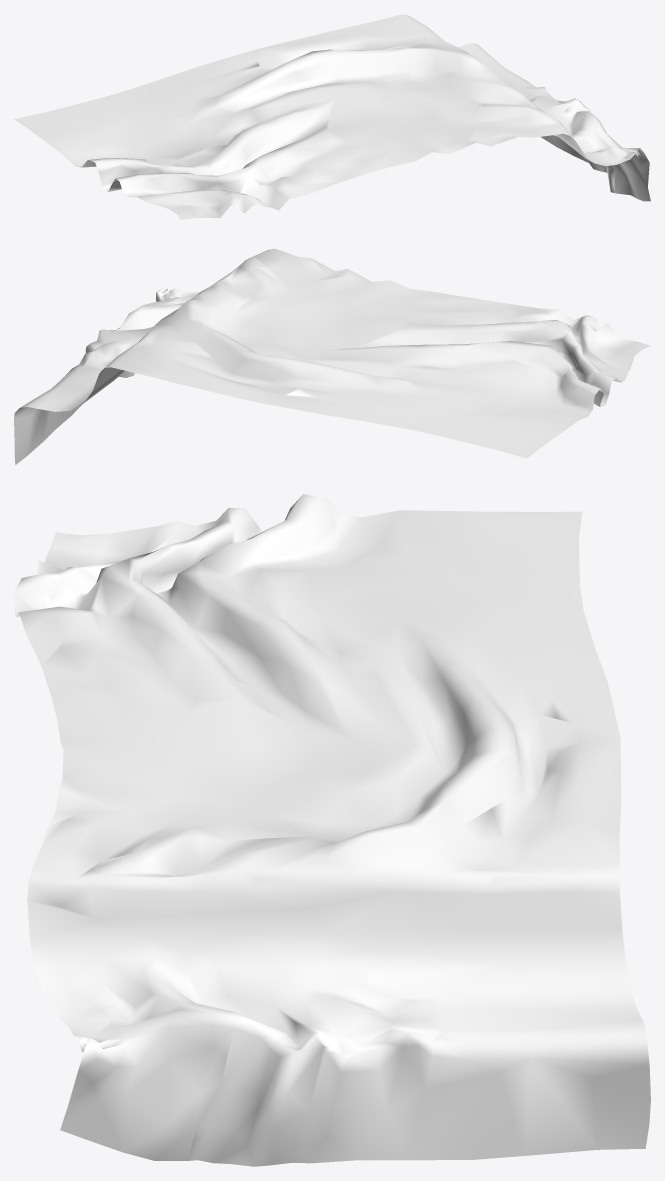
File: Rug4.fbx
The picture shows the model from 3 angles, top to bottom: view 1: azimuth 30°, elevation 25°; view 2: azimuth 150°, elevation 25°; view 3: azimuth 270°, elevation 25°; orthographic projection. The views are drawn at different scales.
Parts seen in each view (by area): view 1: RugStairs; view 2: RugStairs; view 3: RugStairs.
Boxes of the visible parts, bbox=[...] form: RugStairs: bbox=[14, 14, 650, 219]; RugStairs: bbox=[14, 248, 650, 464]; RugStairs: bbox=[14, 494, 650, 1166].
Bounding box in the file's own units: 140 × 34.79 × 83.35.
1 material, 1 textured.
